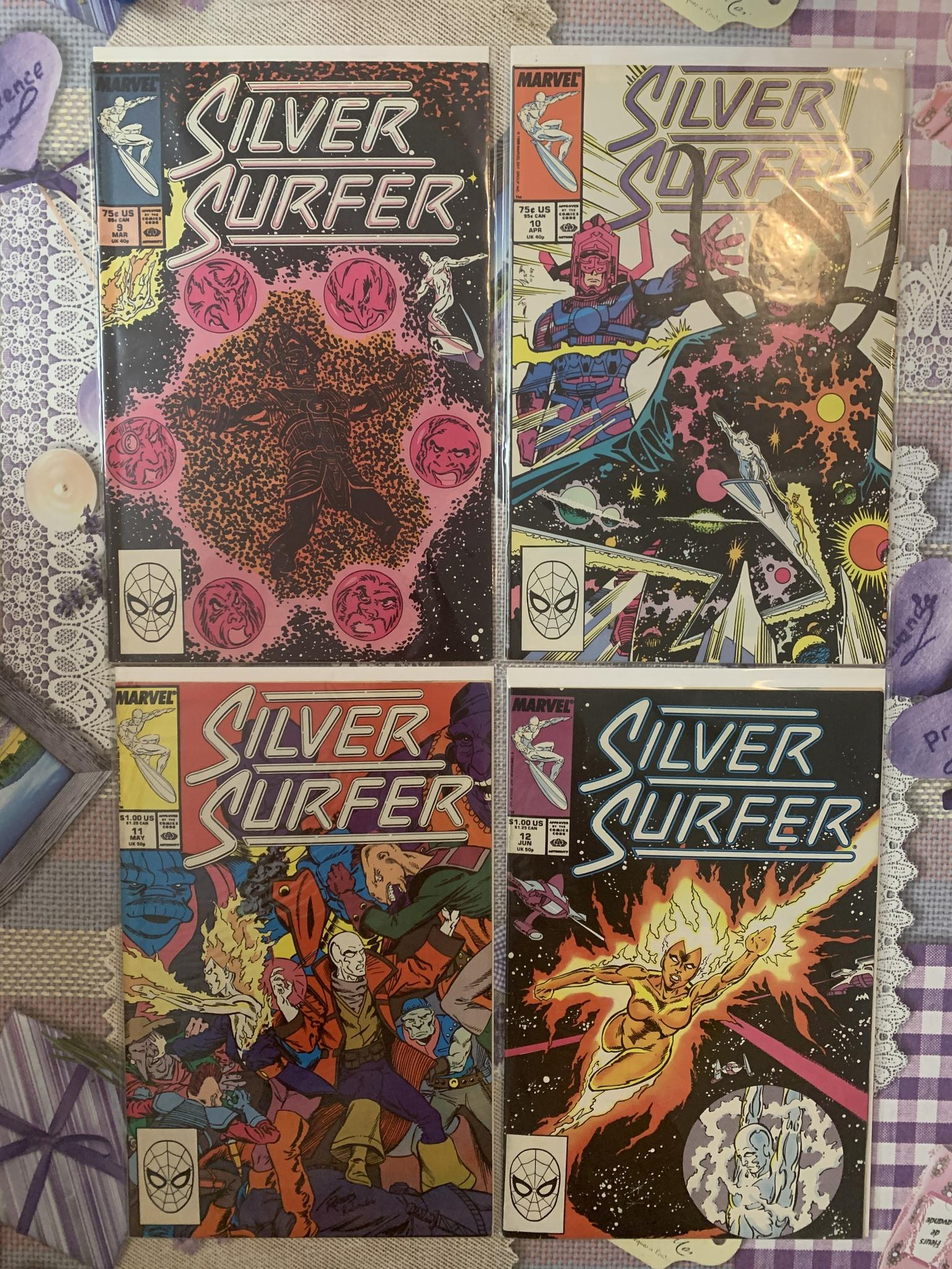comic: (503, 46, 905, 668), (92, 46, 494, 664), (504, 665, 882, 1239), (116, 666, 493, 1237)
